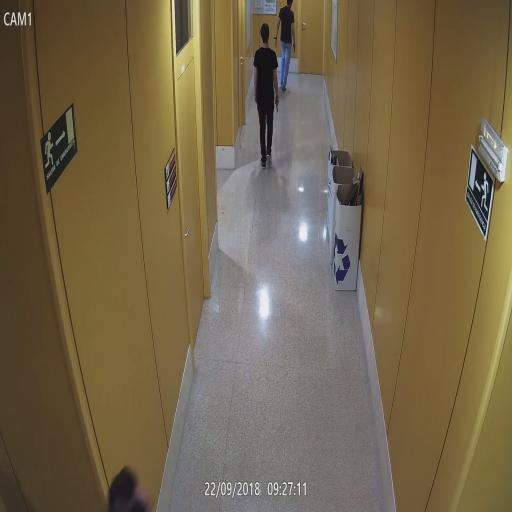Handgun: (290, 41, 298, 53), (274, 97, 280, 112)
